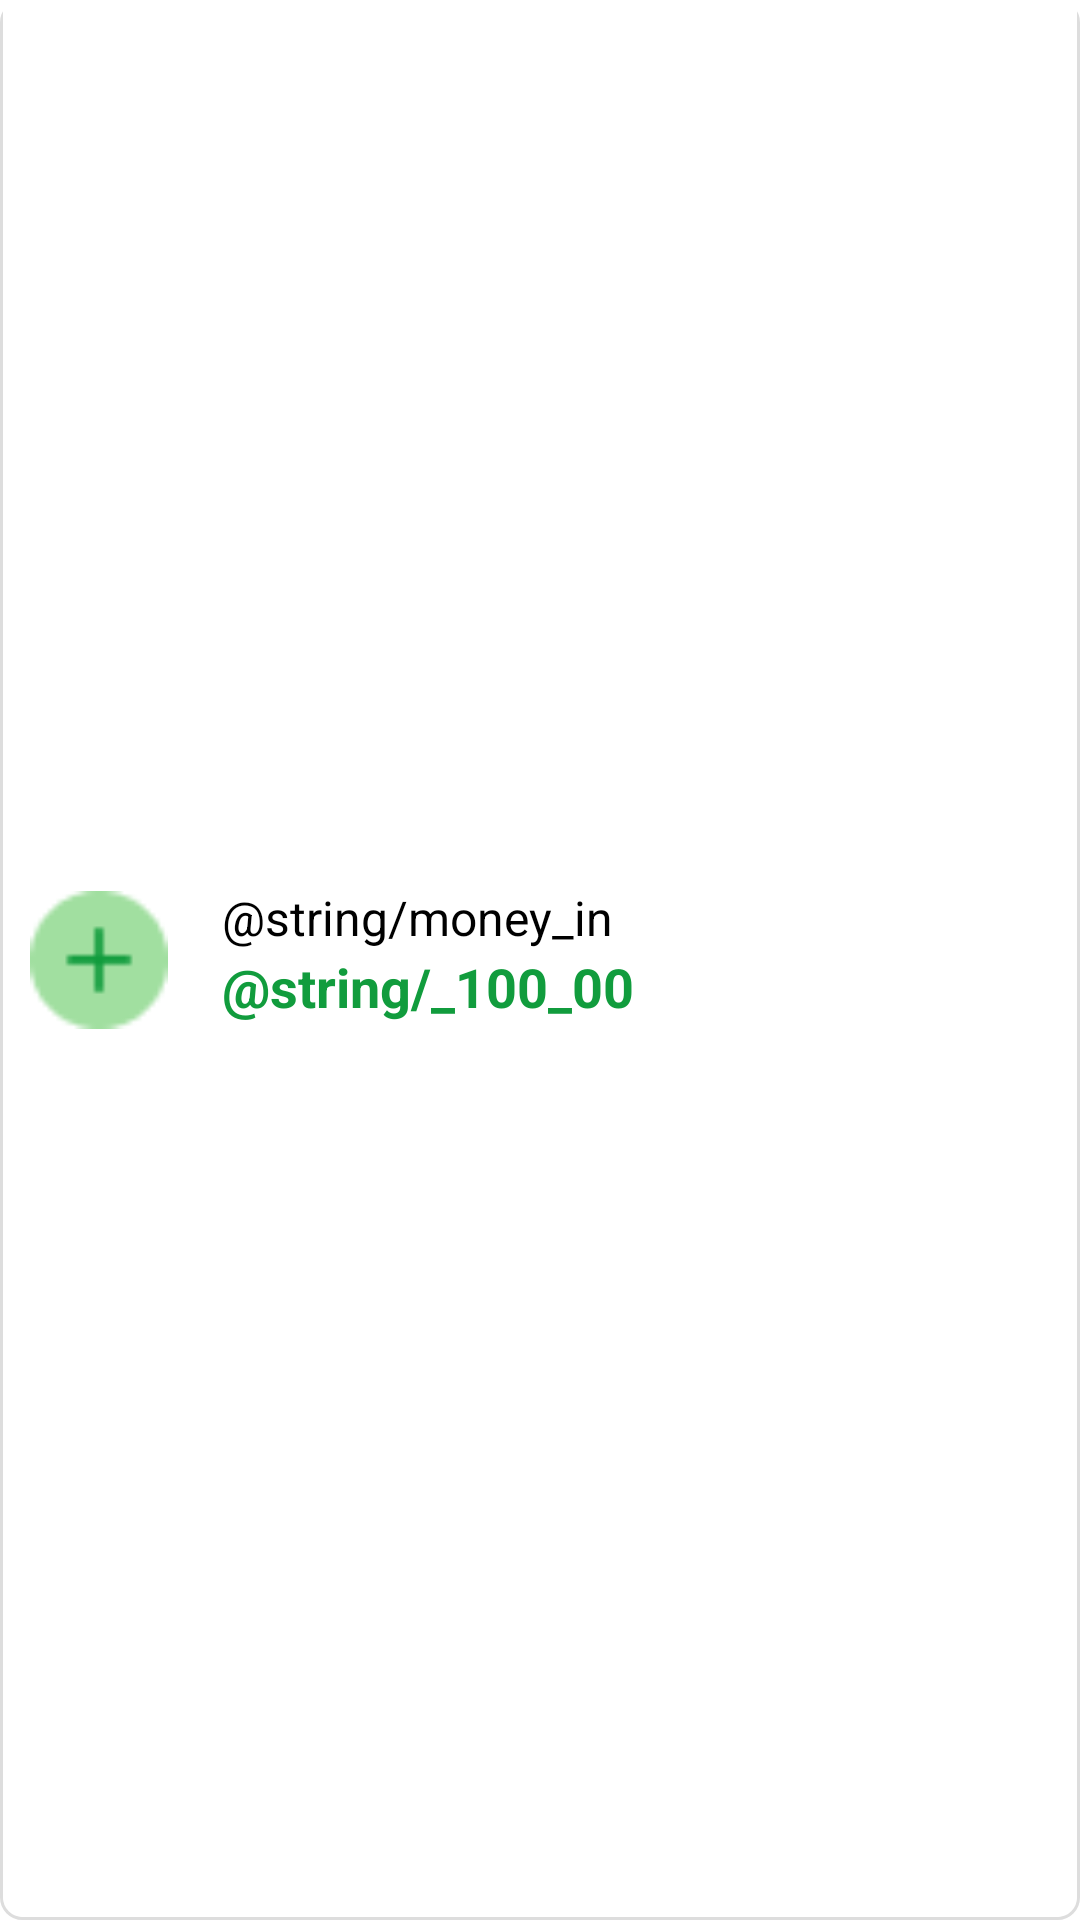

Where icons sit on this 1080w x 1920h app screen, as Rect(x1, y1, x2, y2):
add: Rect(30, 891, 168, 1029)
